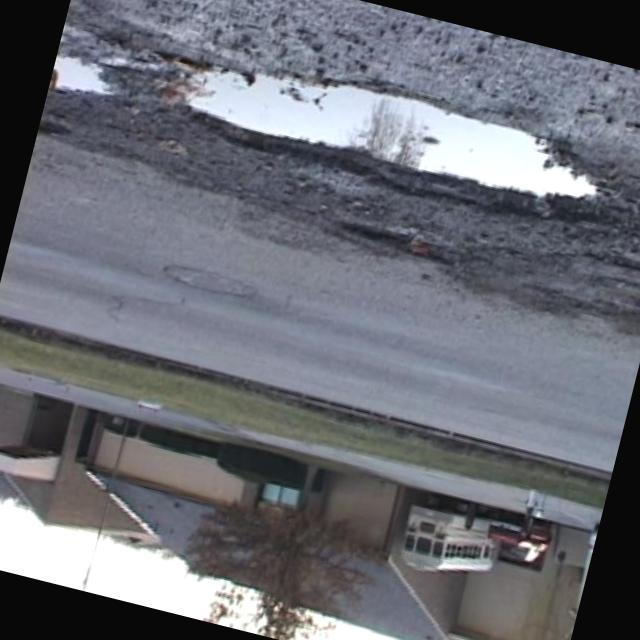pothole: (160, 35, 618, 236)
